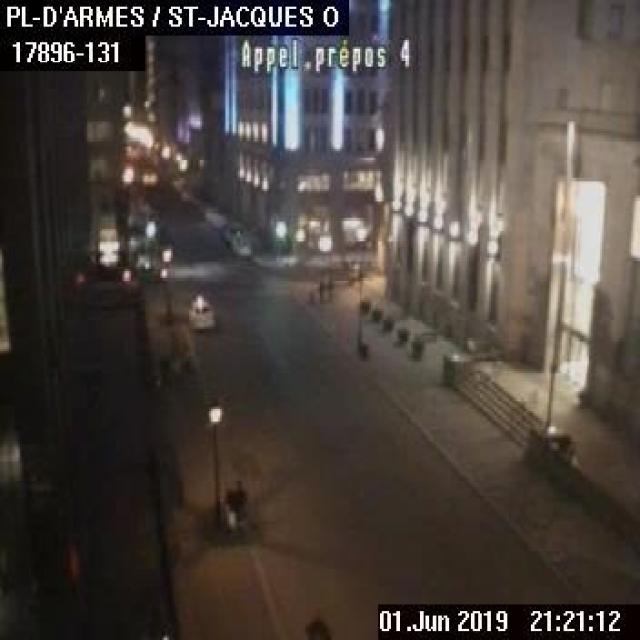pedestrian: (222, 477, 246, 537), (324, 274, 332, 302), (316, 274, 324, 300)
vehicle: (187, 294, 214, 330), (230, 229, 251, 256), (140, 165, 156, 184)
